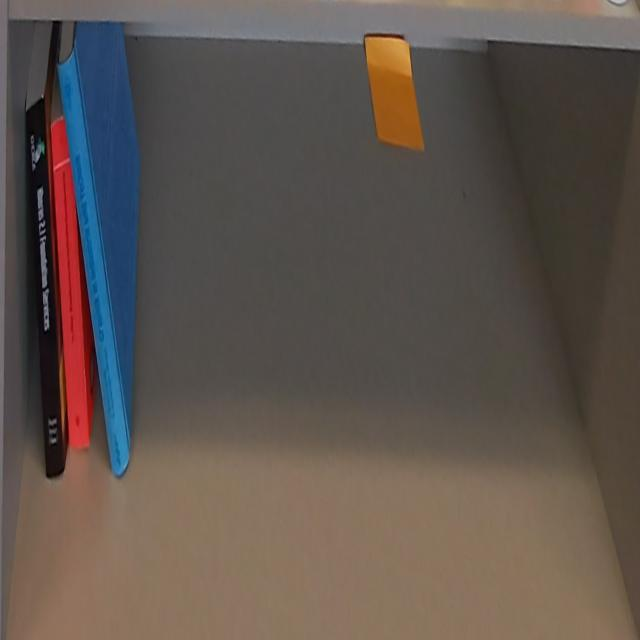Book Spine: (55, 55, 131, 475), (25, 99, 62, 474), (50, 115, 88, 451)
